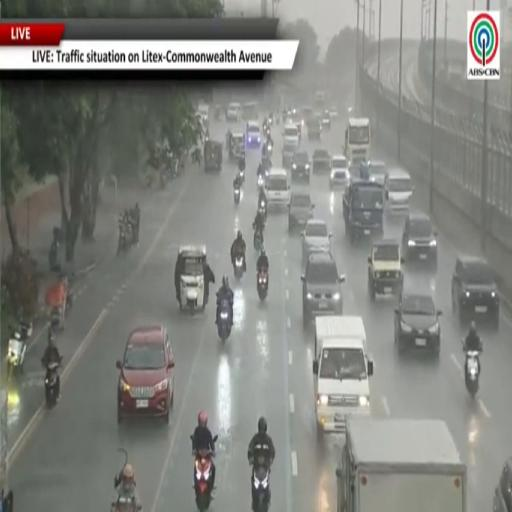car: (117, 326, 175, 423), (451, 255, 500, 328), (301, 252, 345, 326), (394, 293, 441, 355), (368, 239, 403, 299), (402, 212, 437, 268), (302, 219, 332, 267), (385, 169, 414, 212), (265, 168, 290, 210), (288, 192, 314, 232), (493, 457, 511, 511), (330, 155, 350, 189), (292, 150, 310, 183), (367, 160, 387, 185), (246, 121, 261, 148), (313, 149, 330, 172), (306, 116, 321, 140), (289, 116, 302, 141), (197, 103, 209, 126), (243, 102, 258, 120), (226, 103, 241, 121), (301, 106, 314, 126), (321, 109, 330, 130), (329, 107, 338, 120)
motorcycle: (194, 451, 214, 511), (7, 330, 28, 381), (252, 466, 270, 511), (45, 358, 61, 408), (465, 351, 480, 397), (218, 299, 232, 342), (117, 222, 133, 255), (111, 495, 142, 511), (111, 496, 142, 511), (49, 238, 60, 271), (257, 269, 268, 300), (18, 316, 32, 340), (234, 253, 244, 279), (254, 229, 263, 251), (256, 174, 266, 190), (258, 201, 267, 218), (159, 171, 167, 189), (234, 187, 241, 204), (267, 141, 273, 156), (239, 168, 245, 182), (264, 125, 270, 137)
truck: (336, 419, 467, 511), (343, 179, 384, 243), (345, 118, 371, 165)
